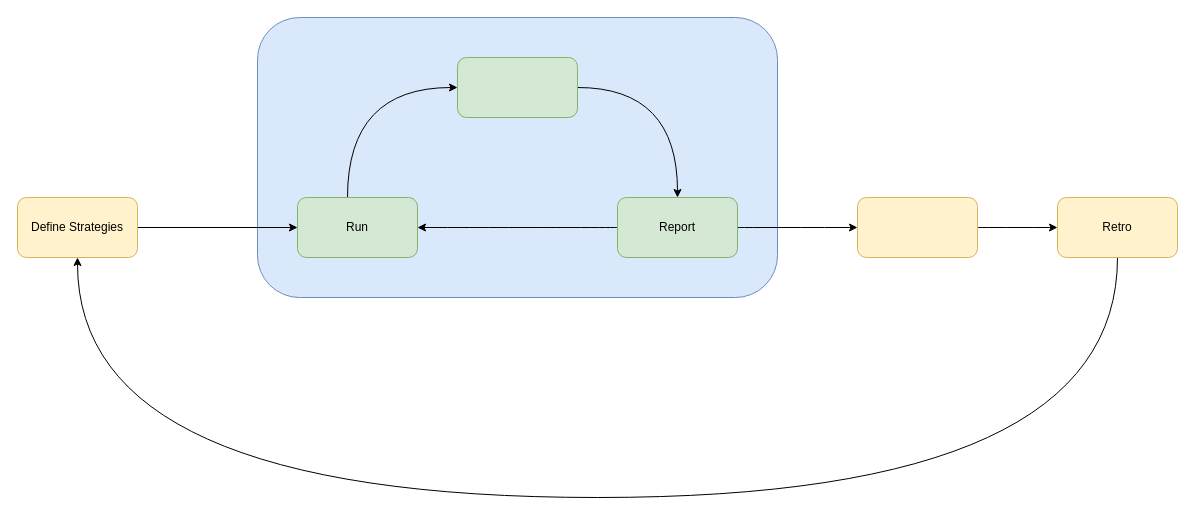
This 1195x515 diagram has some shape labels left out. Here are the shapes that lost their labels. From the top down, the box of each, then its label:
(456, 56, 578, 118): Find
(856, 196, 978, 258): Summary/Review
